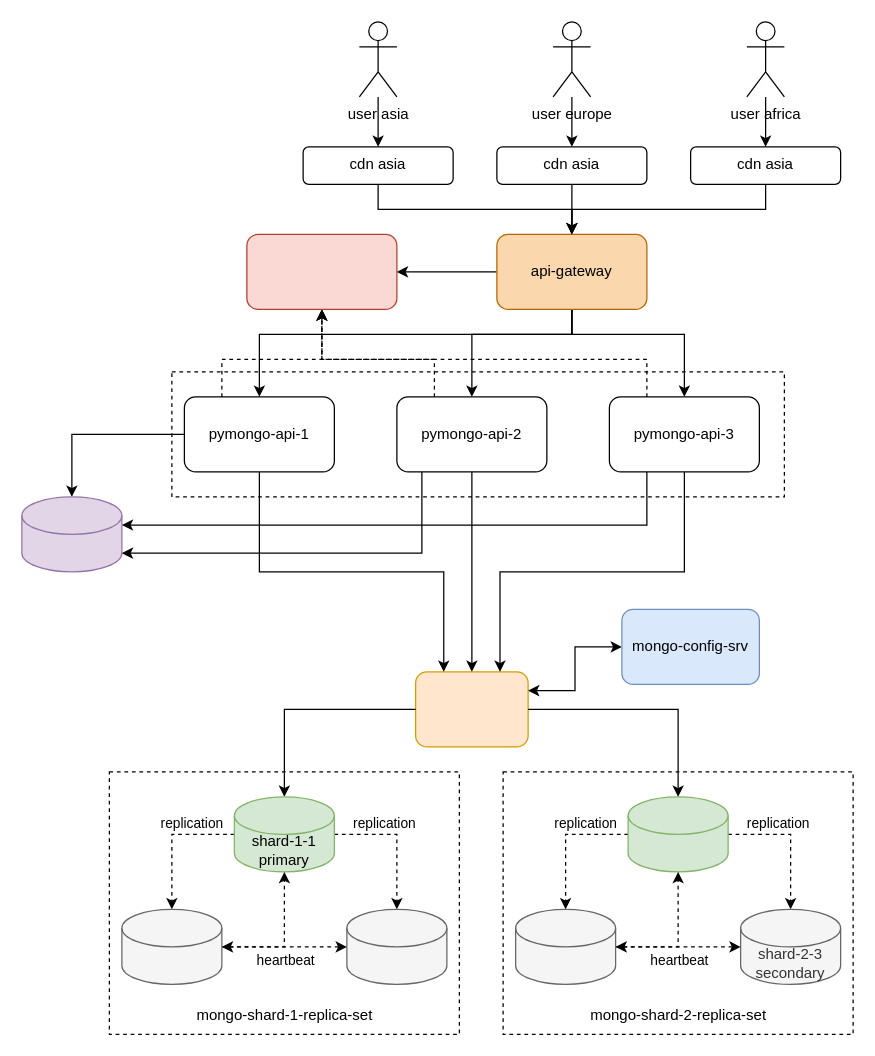
This 875x1056 diagram has some shape labels left out. Each missing label, with the centre of its shape:
counsul: point (321, 271)
mongo-router: point (471, 709)
redis: point (71, 534)
shard-1-2 secondary: point (171, 946)
shard-1-3 secondary: point (396, 946)
shard-2-1 primary: point (677, 834)
shard-2-2 secondary: point (565, 946)
